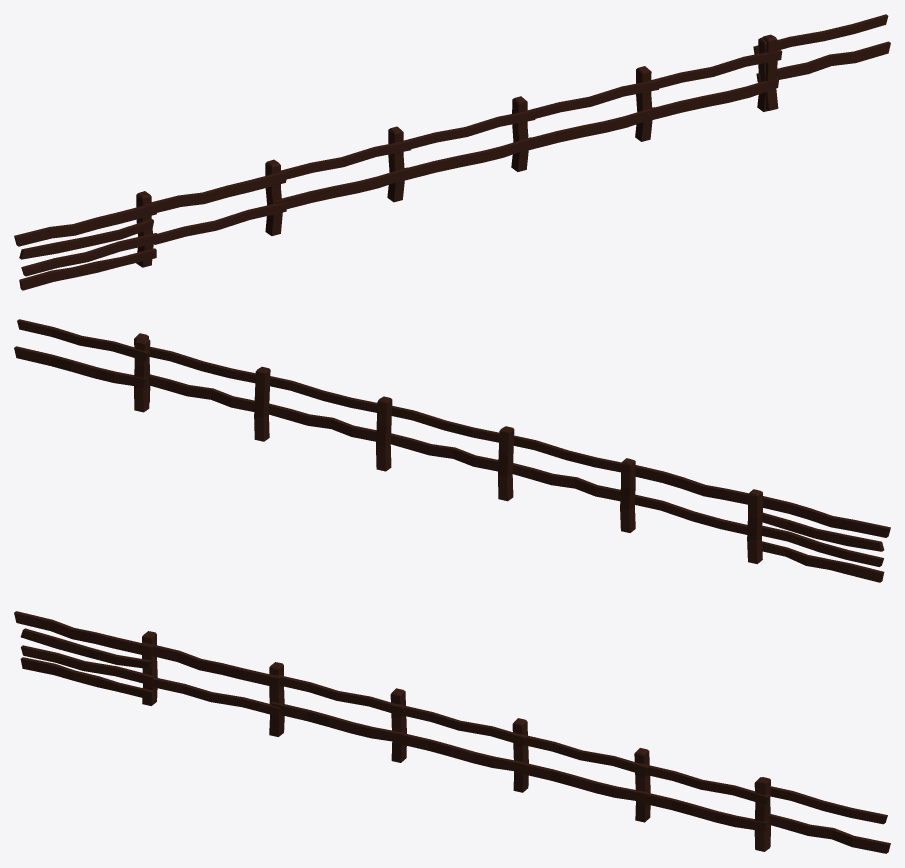
Rendered from Cerca_1.obj.
The picture shows the model from 3 angles, top to bottom: view 1: azimuth 30°, elevation 25°; view 2: azimuth 150°, elevation 25°; view 3: azimuth 330°, elevation 25°; orthographic projection.
Visible parts, largest first — view 1: polySurface17; view 2: polySurface17; view 3: polySurface17.
Part boxes in pixels (x1,y1,x2,y2): polySurface17: (14,14,890,290); polySurface17: (14,319,890,582); polySurface17: (14,611,890,853).
Bounding box in the file's own units: 77.74 × 6.42 × 1.73.
